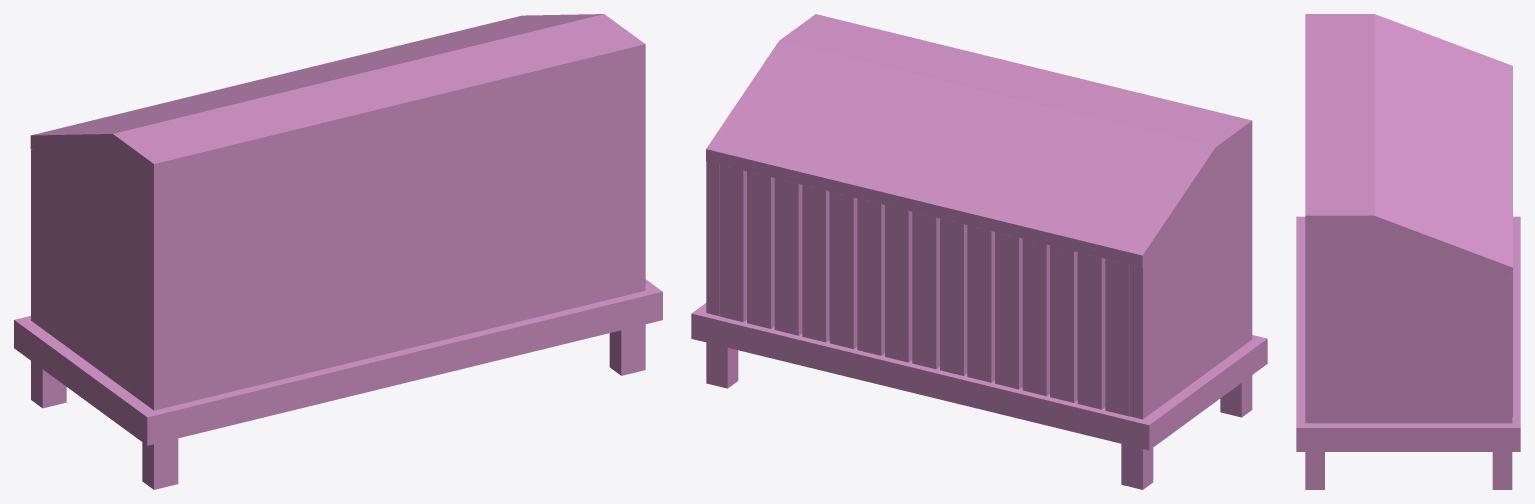
File: Chest.FBX
3 views of the same model, side by side, from view 1: azimuth 30°, elevation 25°; view 2: azimuth 150°, elevation 25°; view 3: azimuth 270°, elevation 25° (orthographic). The views are drawn at different scales.
Parts seen in each view (by area): view 1: Chest; view 2: Chest; view 3: Chest.
Part boxes in pixels (x1,y1,x2,y2): Chest: (14, 14, 662, 489); Chest: (691, 14, 1267, 489); Chest: (1296, 14, 1520, 489).
Bounding box in the file's own units: 2.2 × 1.33 × 0.9859.
